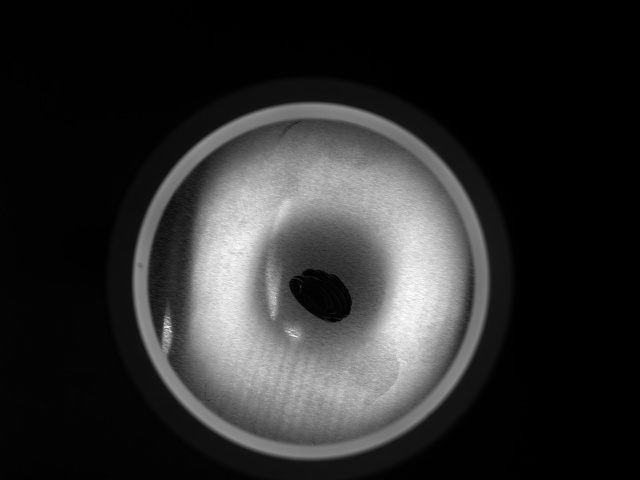zang_wu: (286, 265, 355, 327)
